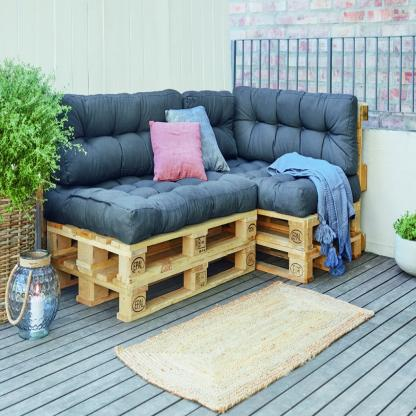BoxFace: (46, 243, 256, 325), (44, 209, 258, 284)
